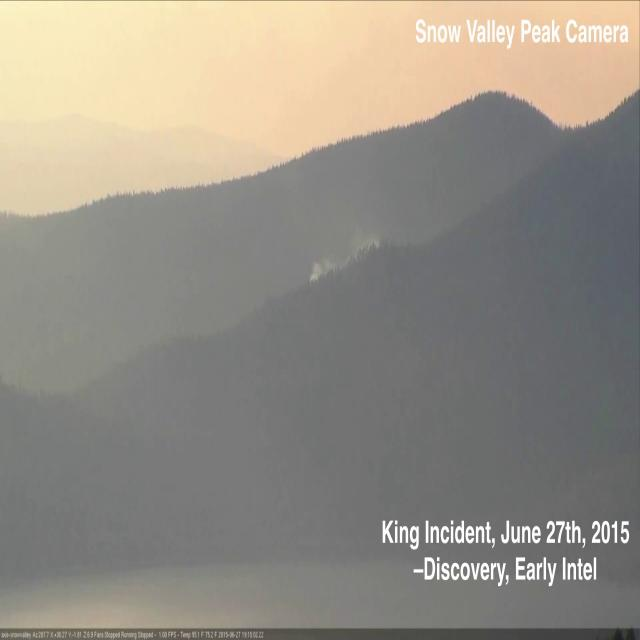smoke: (306, 232, 391, 292)
